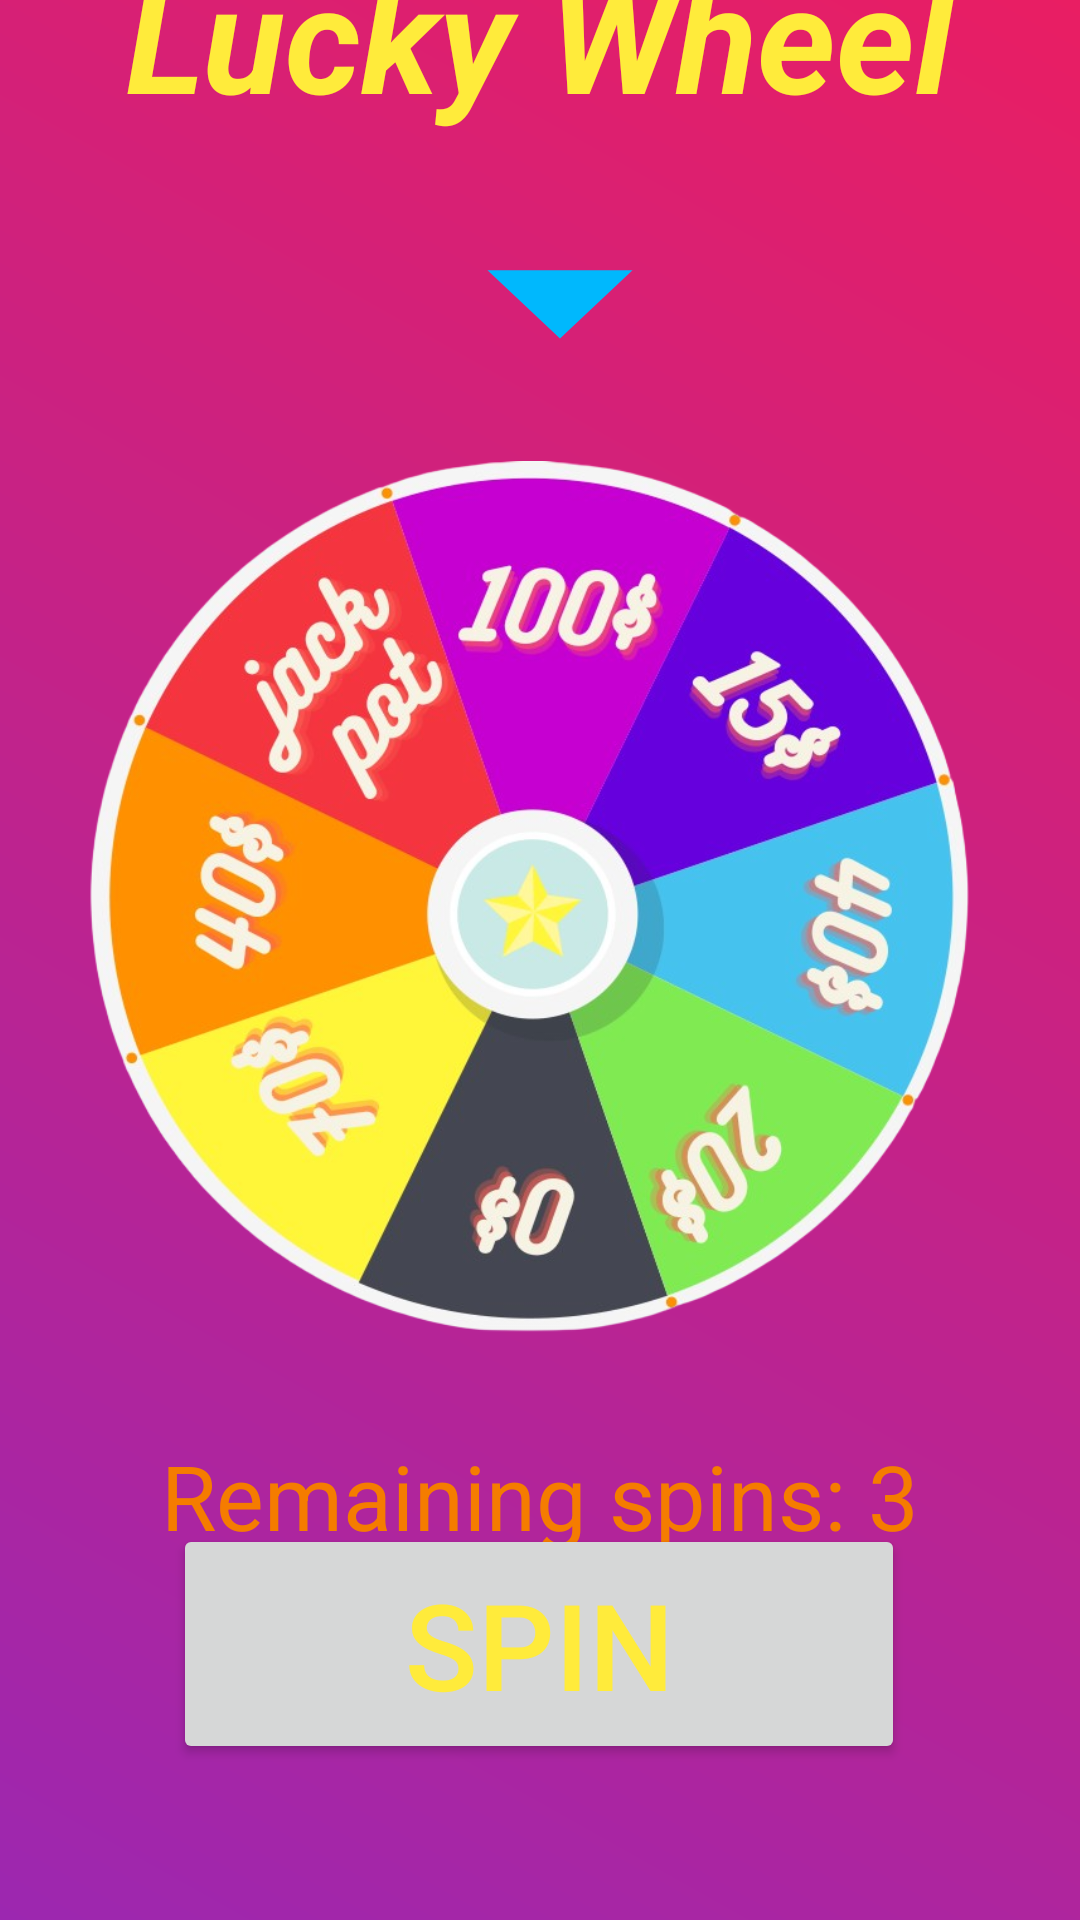

Icons on this 1080px×1920px Android screen, each with its box as (x1, y1, x2, y2):
arrow drop down: (488, 270, 632, 339)
